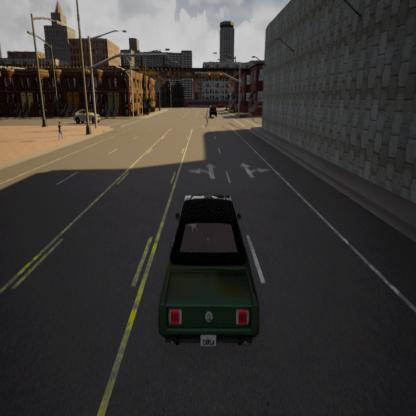Cars: (153, 192, 264, 357), (73, 108, 103, 126), (209, 104, 218, 118)
Pedestrian: (203, 106, 211, 128), (56, 118, 63, 143)
